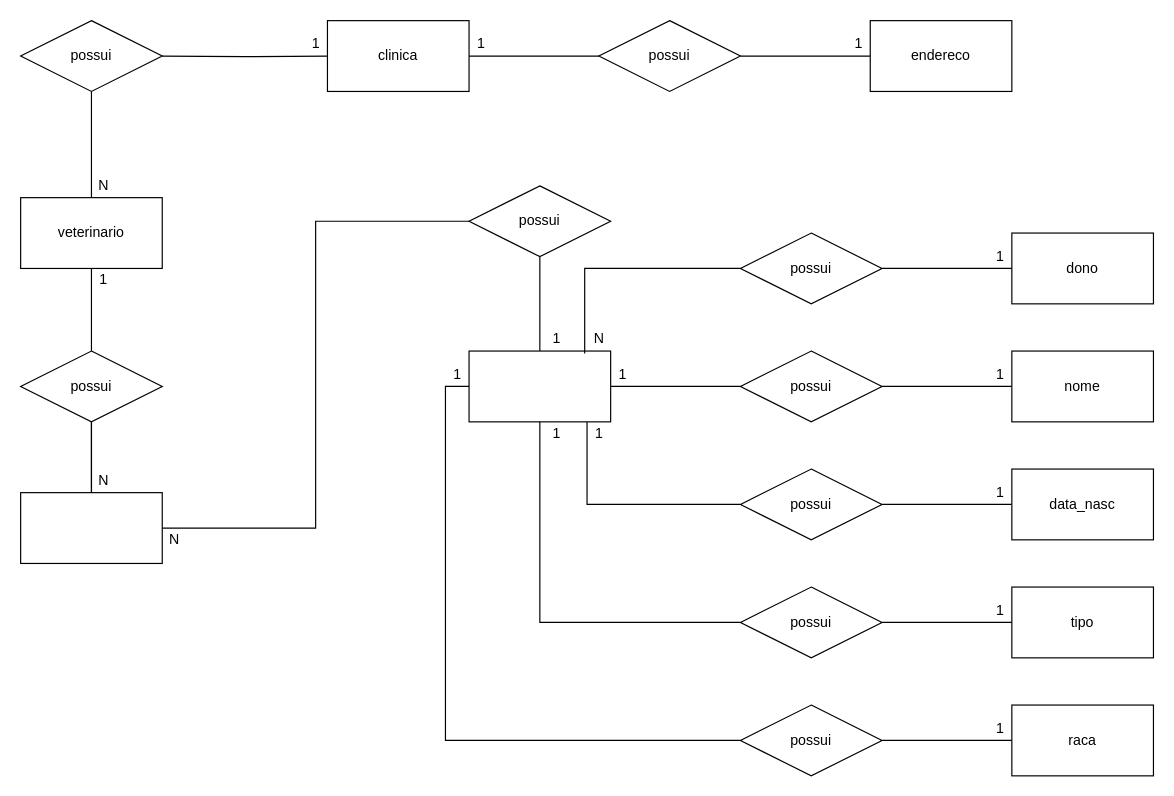
Some shapes in this 1174 by 796 pixel diagram are drawn without their labels. The shapes that lost their labels are listed below. From the top down, each one's centre as x and y in pixels, then its label:
point 539,386: pets
point 90,527: atendimento
